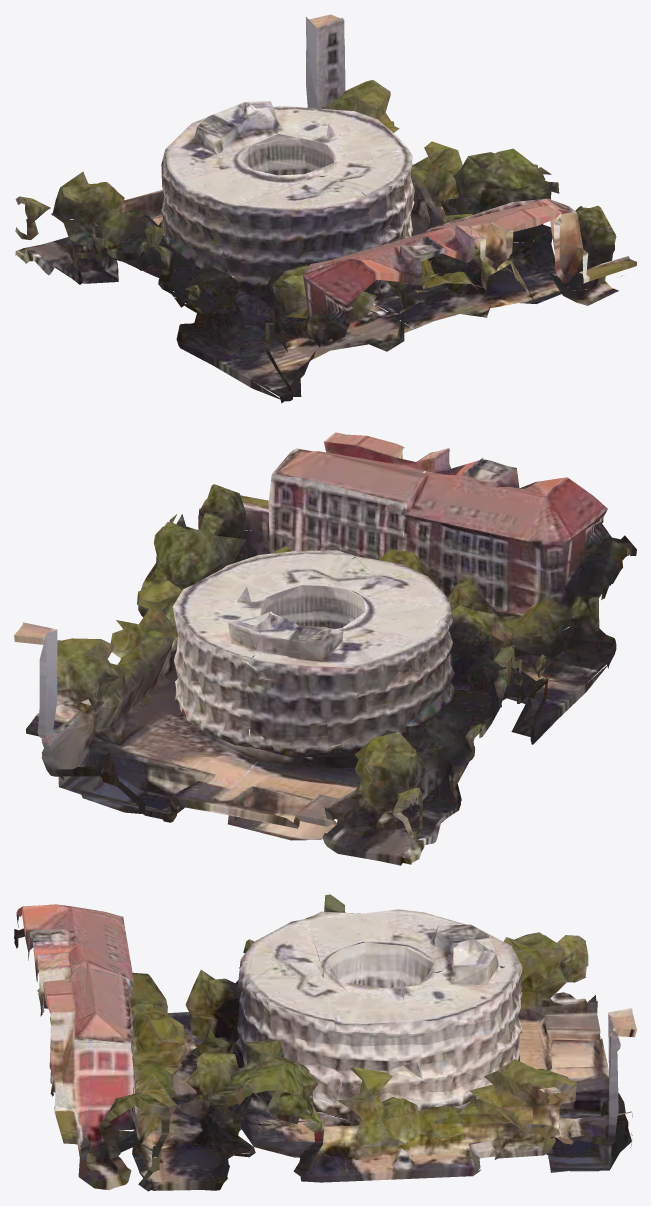
3 renders of one model, top to bottom at view 1: azimuth 30°, elevation 25°; view 2: azimuth 150°, elevation 25°; view 3: azimuth 270°, elevation 25°, orthographic. The views are drawn at different scales.
Parts seen in each view (by area): view 1: Mesh_0; view 2: Mesh_0; view 3: Mesh_0.
Boxes of the visible parts, box(x1,y1,x2,y2) form: Mesh_0: box(15, 14, 636, 403); Mesh_0: box(14, 432, 636, 865); Mesh_0: box(14, 894, 636, 1191).
Bounding box in the file's own units: 66.83 × 26 × 82.44.
1 material, 1 textured.
